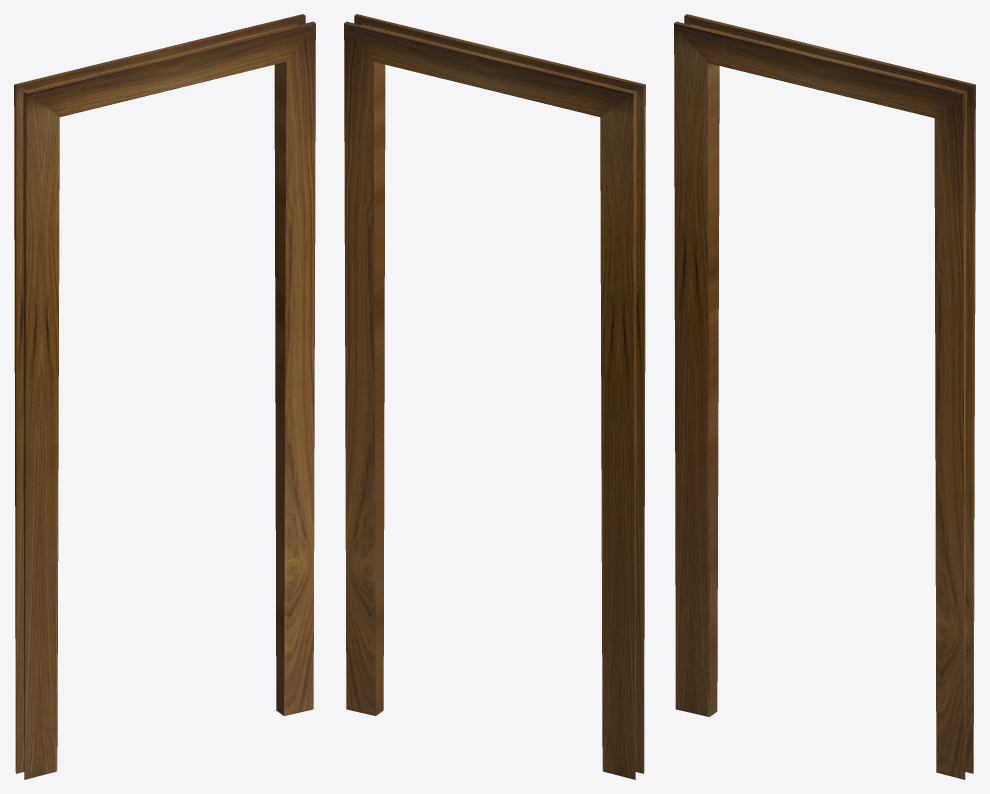
Rendered from 48_ROYAL_Frame.glb.
The picture shows the model from 3 angles, left to right: view 1: azimuth 30°, elevation 25°; view 2: azimuth 150°, elevation 25°; view 3: azimuth 330°, elevation 25°; orthographic projection.
Visible parts, largest first — view 1: 48_ROYAL_Frame; view 2: 48_ROYAL_Frame; view 3: 48_ROYAL_Frame.
Part boxes in pixels (bbox=[...]): 48_ROYAL_Frame: bbox=[14, 14, 315, 779]; 48_ROYAL_Frame: bbox=[344, 14, 645, 779]; 48_ROYAL_Frame: bbox=[674, 14, 975, 779].
Bounding box in the file's own units: 1.02 × 2.32 × 0.0775.
Materials: 1 (1 with a texture image).
